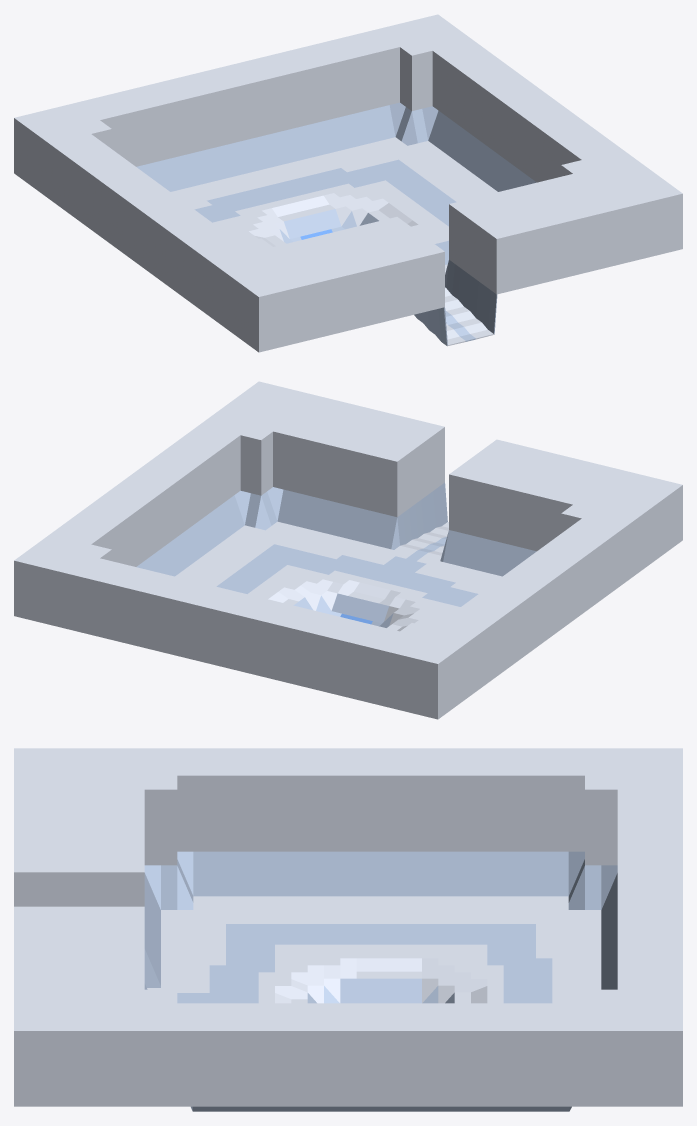
The model's file is stage_iceburivillage.fbx.
3 renders of one model, top to bottom at view 1: azimuth 30°, elevation 25°; view 2: azimuth 150°, elevation 25°; view 3: azimuth 270°, elevation 25°, orthographic. The views are drawn at different scales.
Parts seen in each view (by area): view 1: ground; view 2: ground; view 3: ground.
Boxes of the visible parts, x1,y1,x2,y2 form: ground: (14, 14, 682, 352); ground: (14, 381, 682, 719); ground: (14, 748, 682, 1111).
Bounding box in the file's own units: 8000 × 2239 × 8000.
